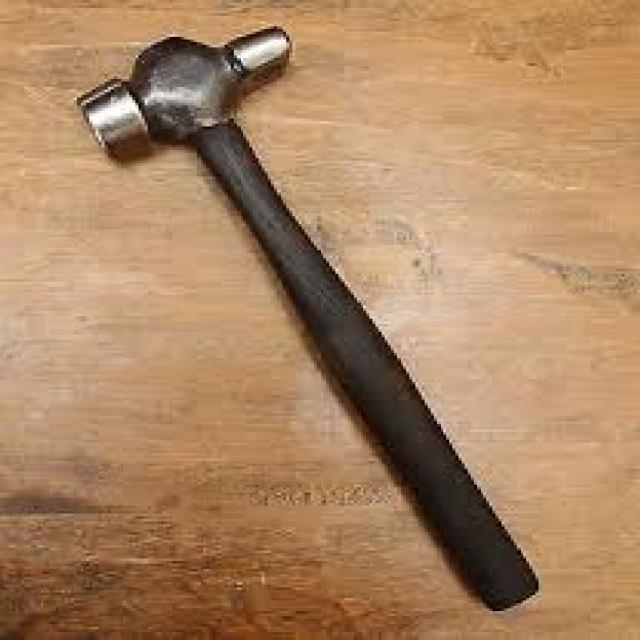hammer: (71, 16, 554, 616)
